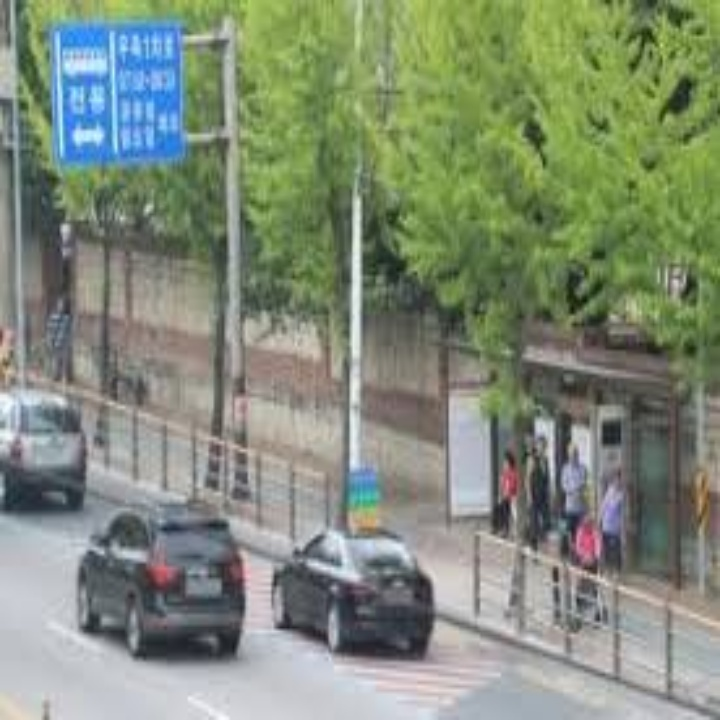bus: (56, 33, 111, 80)
